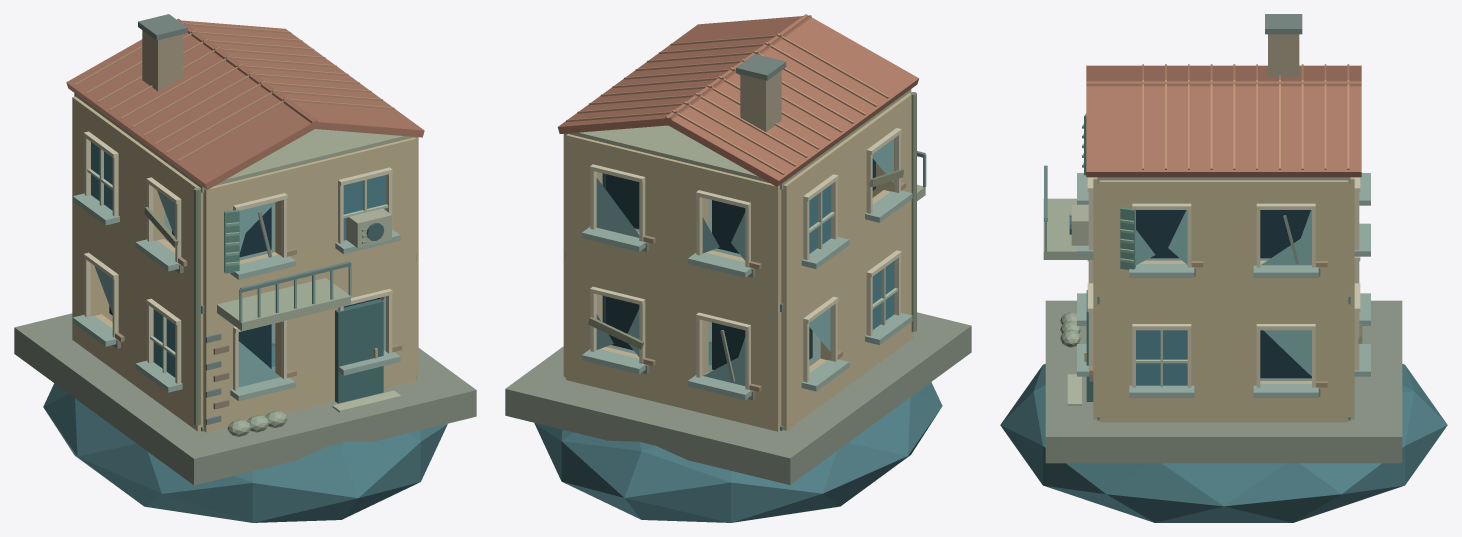
The model's file is house_10.glb.
3 views of the same model, side by side, from view 1: azimuth 30°, elevation 25°; view 2: azimuth 150°, elevation 25°; view 3: azimuth 270°, elevation 25° (orthographic).
Parts seen in each view (by area): view 1: house_10; view 2: house_10; view 3: house_10.
Boxes of the visible parts, x1,y1,x2,y2 form: house_10: [14, 14, 476, 522]; house_10: [505, 14, 971, 522]; house_10: [1000, 14, 1447, 522].
Size of the model in its own units: 9.28 by 11.78 by 10.8.
